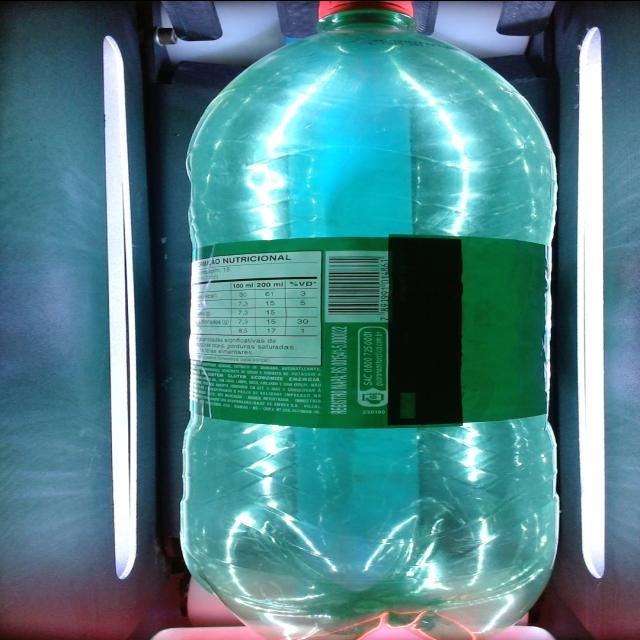bottom: (173, 532, 566, 640)
cap: (290, 0, 434, 30)
code: (319, 245, 393, 325)
